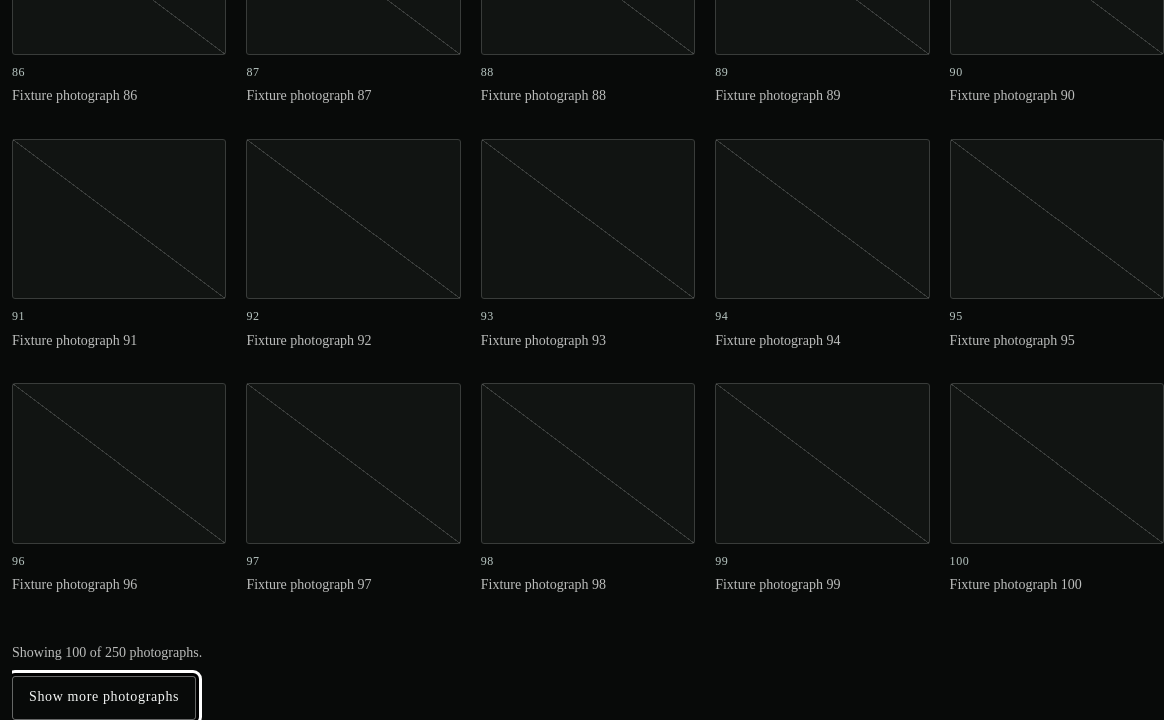
Scenario: SeriesSequence › stops at a 409, keeps what loaded, and links to the current series, moving focus there from the control
(page scrolled)
Click the button "Show more photographs" at [104, 698], box left=12, top=676, right=196, bottom=719
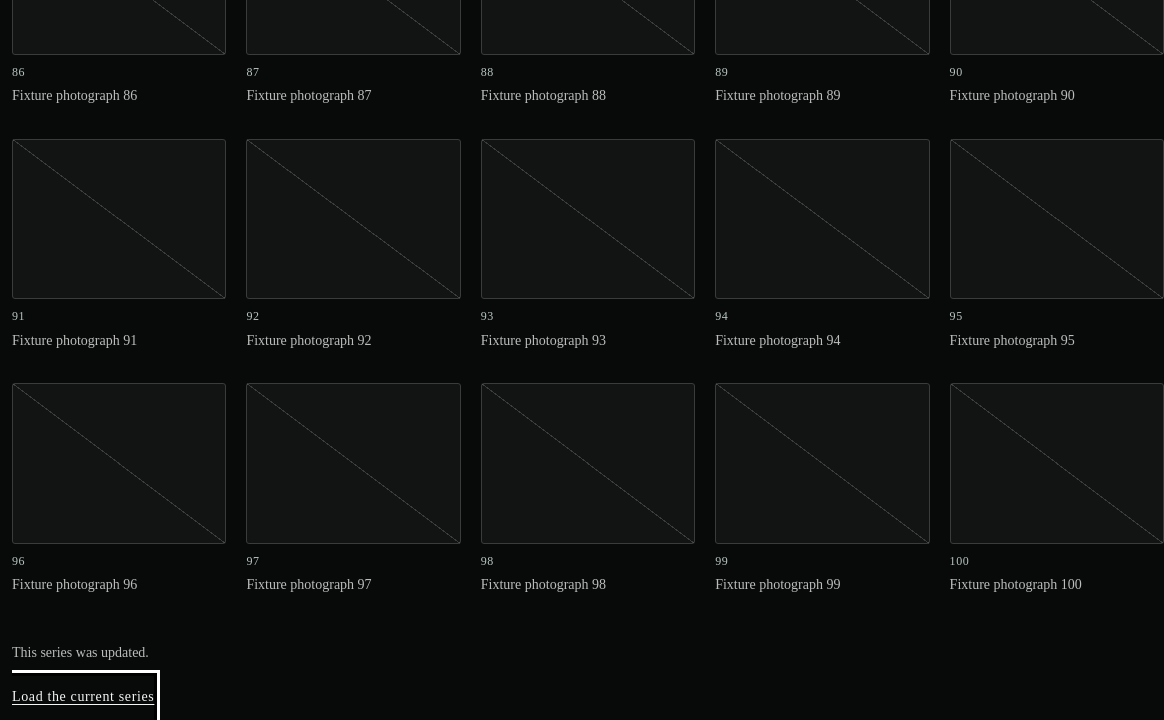
Now the message reads "This series was updated.", box left=12, top=645, right=149, bottom=660
Now the button "Show more photographs" is gone
